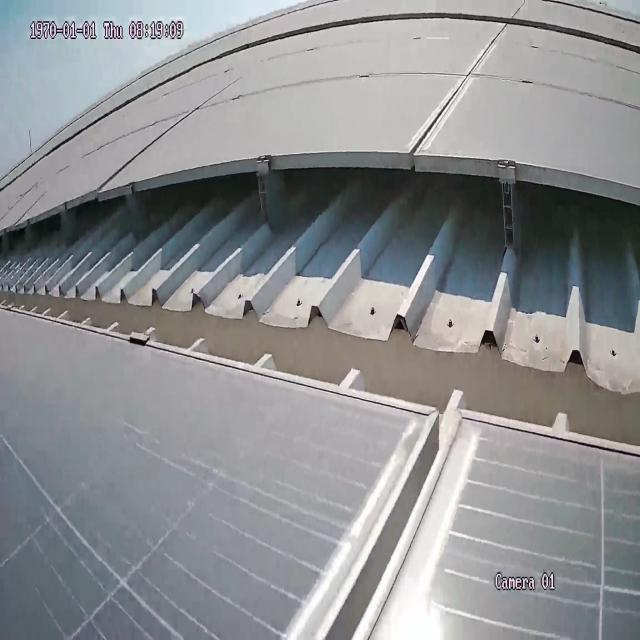interior panel: (283, 446, 464, 640), (417, 32, 503, 142)
outher panel: (2, 162, 640, 466)
